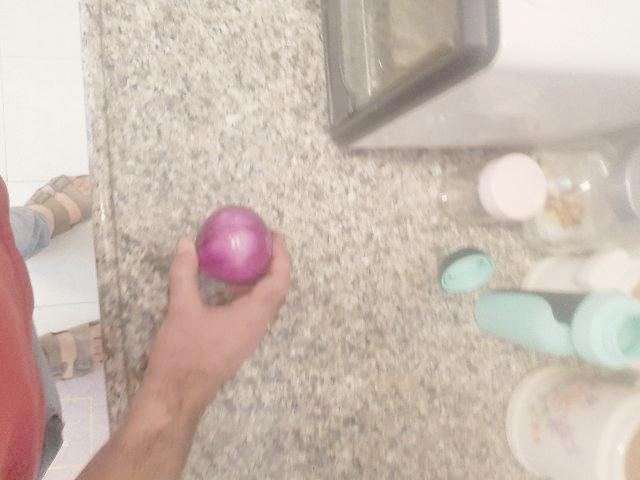onion: (194, 210, 271, 287)
